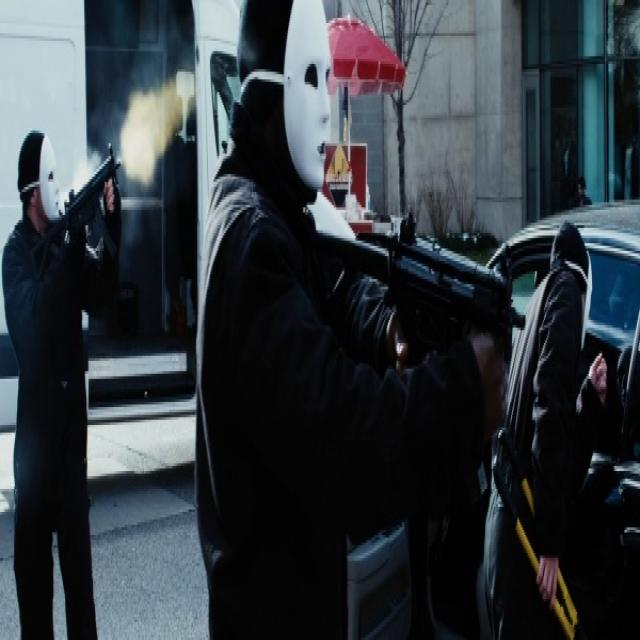rifle: (312, 205, 531, 356), (46, 152, 123, 308)
